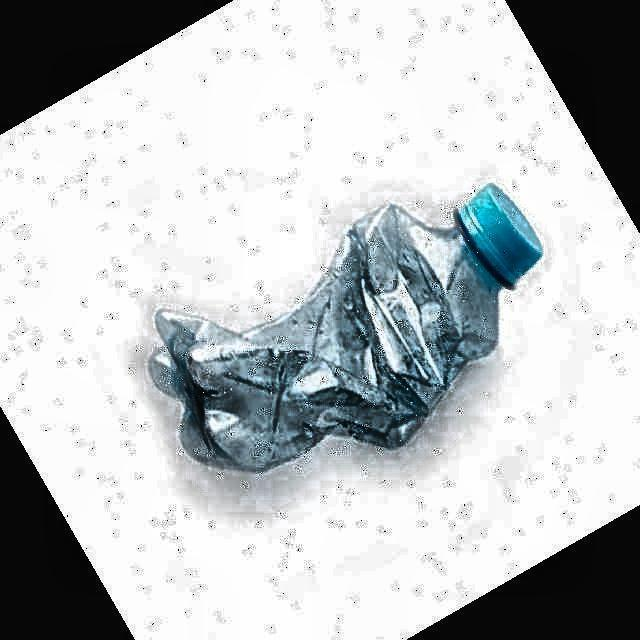plastic: (151, 185, 542, 471)
